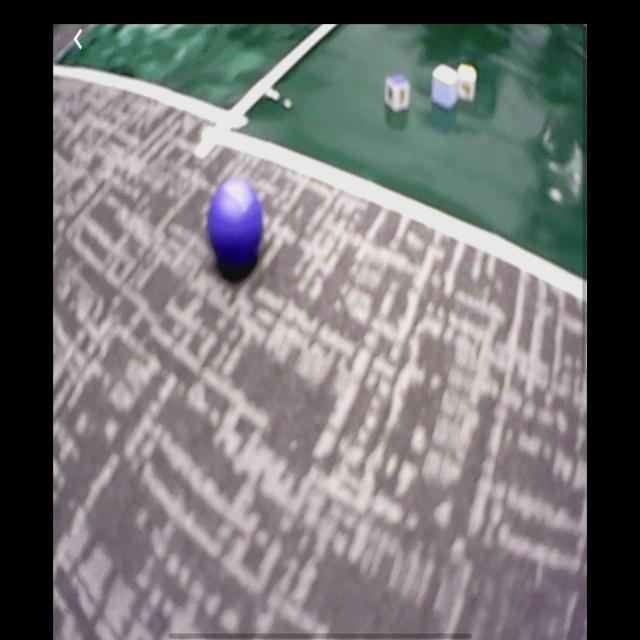ball: (208, 176, 263, 271)
